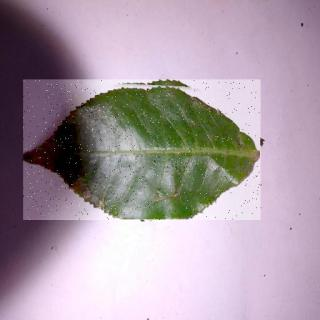Bird Eye Spot: (25, 81, 263, 222)
